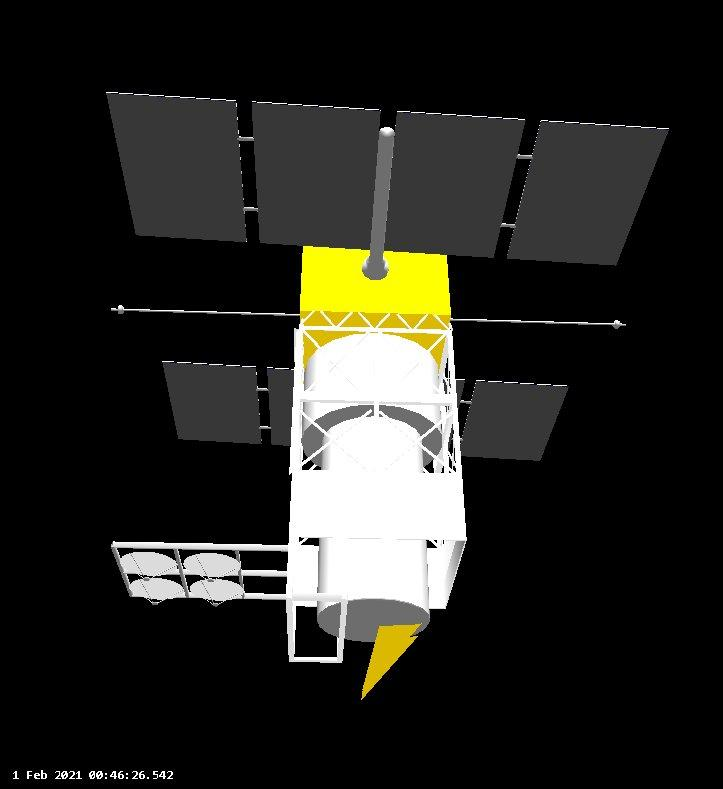antenna: (103, 300, 307, 327), (450, 313, 634, 328), (182, 575, 248, 610), (123, 575, 189, 606), (115, 548, 181, 578), (179, 548, 245, 578)
body: (294, 237, 467, 613)
solar: (99, 87, 675, 277), (155, 355, 575, 468)
